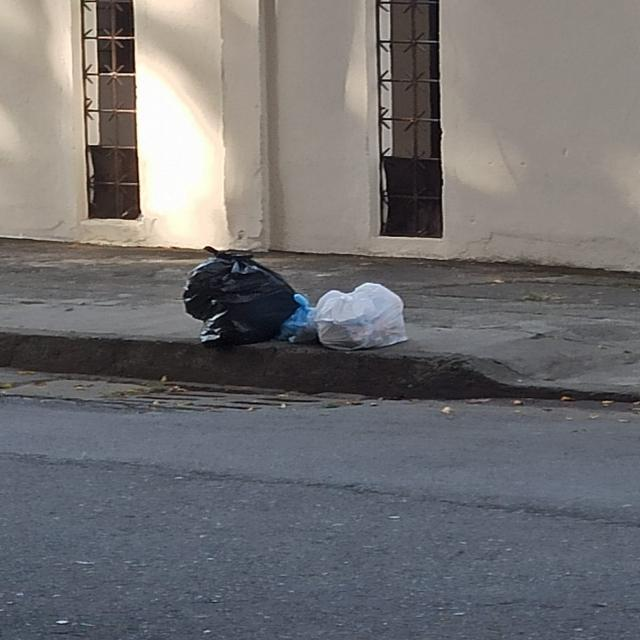Trashbag: (176, 253, 293, 356)
